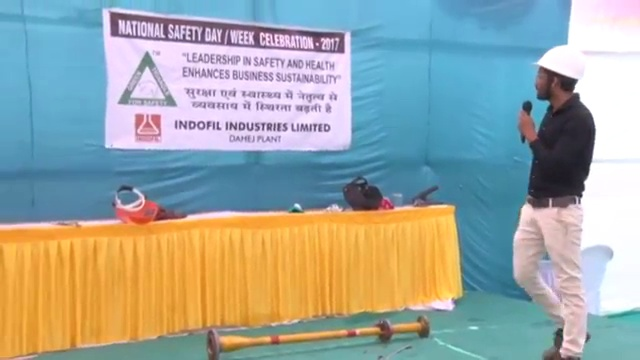helmet: (528, 45, 587, 79)
helmet_on: (527, 44, 589, 106)
person: (515, 44, 596, 360)
